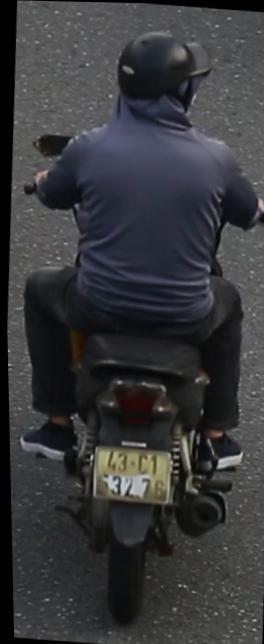LP: (86, 439, 176, 509)
helmet: (107, 21, 220, 142)
